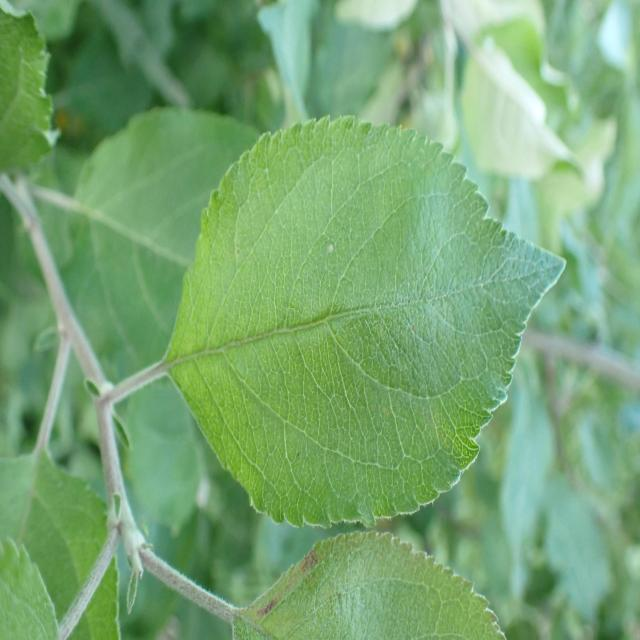healthy: (164, 114, 568, 530), (231, 529, 507, 640)
